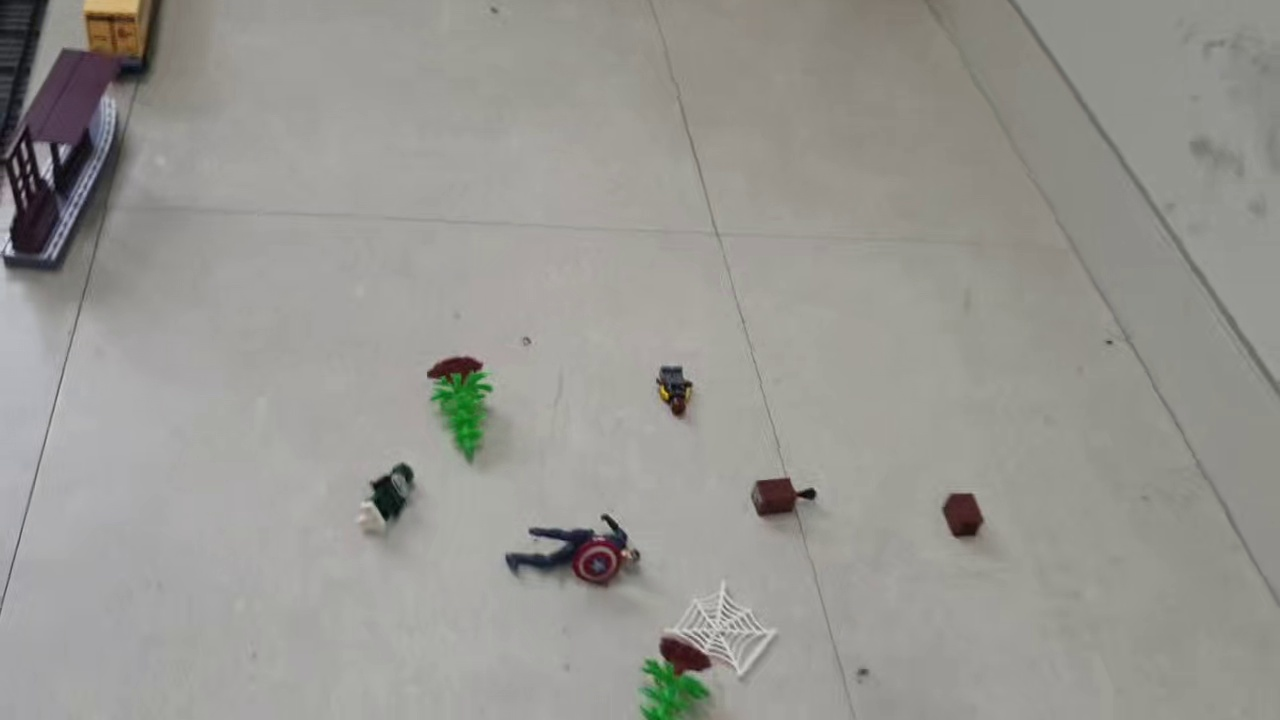box: (751, 478, 819, 517), (941, 493, 986, 543)
people: (504, 514, 645, 586), (357, 462, 414, 536), (650, 366, 696, 418)
tree: (425, 355, 498, 468), (637, 638, 710, 720)
web: (664, 581, 776, 681)
